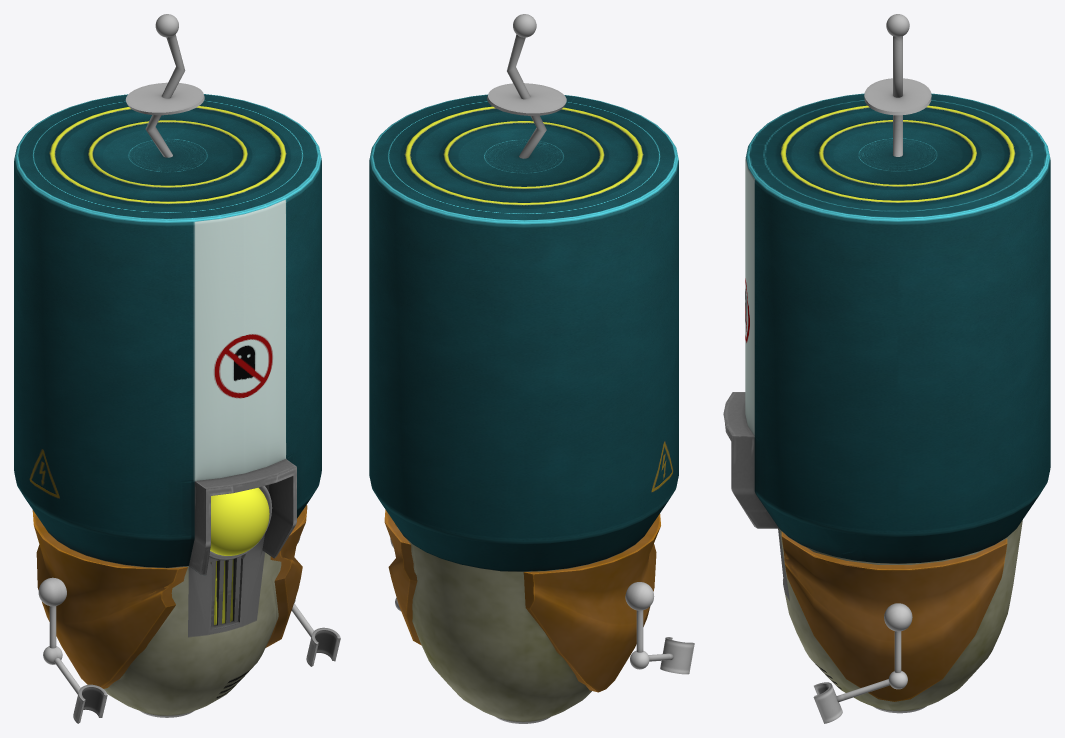
Rendered from robot 1.FBX.
3 views of the same model, side by side, from view 1: azimuth 30°, elevation 25°; view 2: azimuth 150°, elevation 25°; view 3: azimuth 270°, elevation 25° (orthographic).
Visible parts, largest first — view 1: robot_low001; view 2: robot_low001; view 3: robot_low001.
Part boxes in pixels (box(x1,y1,x2,y2)): robot_low001: box(14, 14, 340, 723); robot_low001: box(369, 14, 694, 723); robot_low001: box(723, 14, 1050, 723).
Bounding box in the file's own units: 29.39 × 72.97 × 31.49.
Materials: 1 (1 with a texture image).
